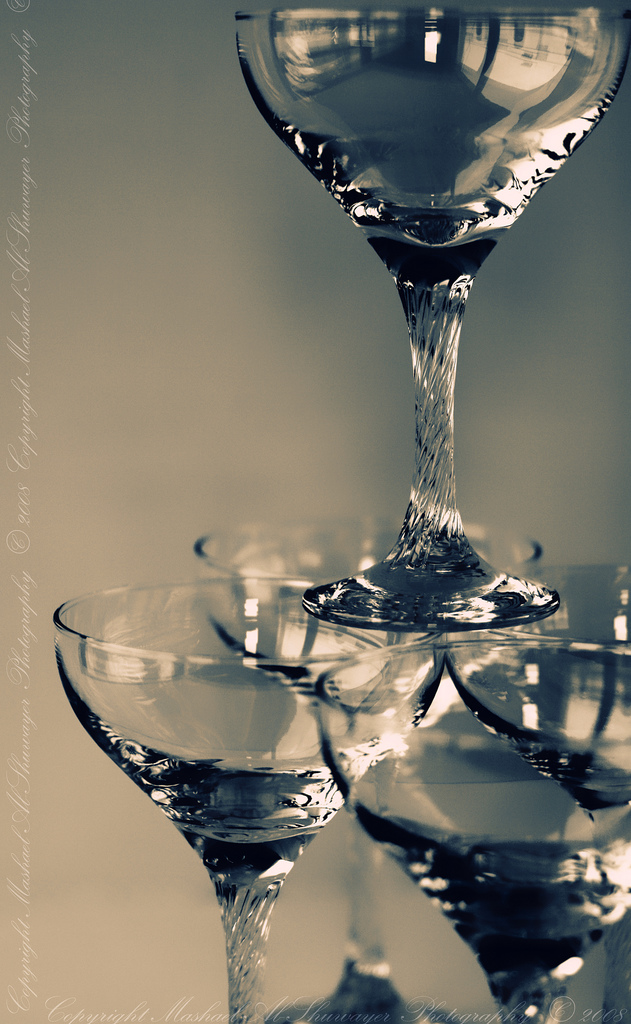glass of water: (224, 5, 593, 636)
